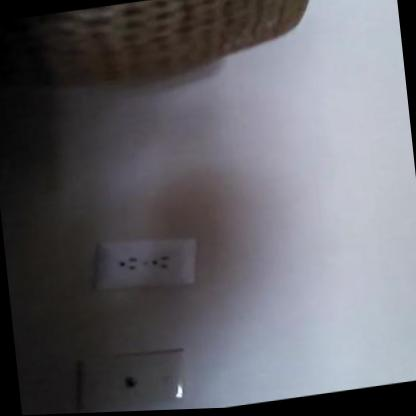OUTLET: (93, 230, 200, 296)
